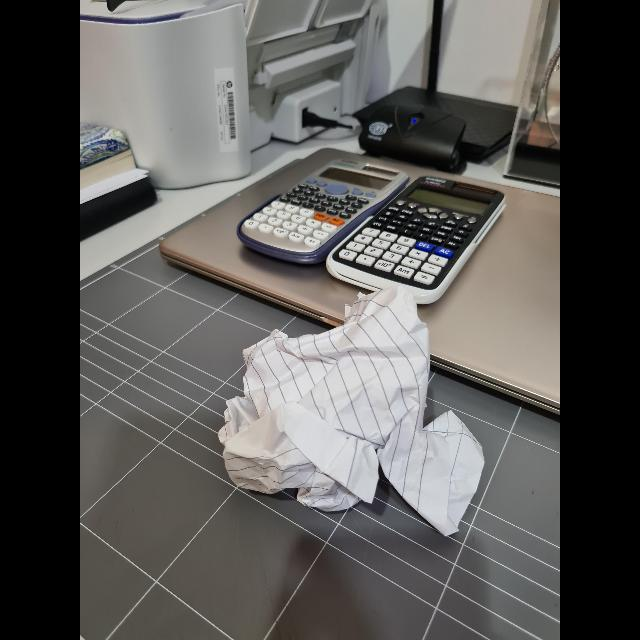trash: (228, 292, 472, 526)
